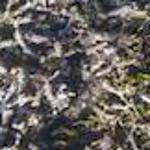alive: (7, 3, 147, 148)
